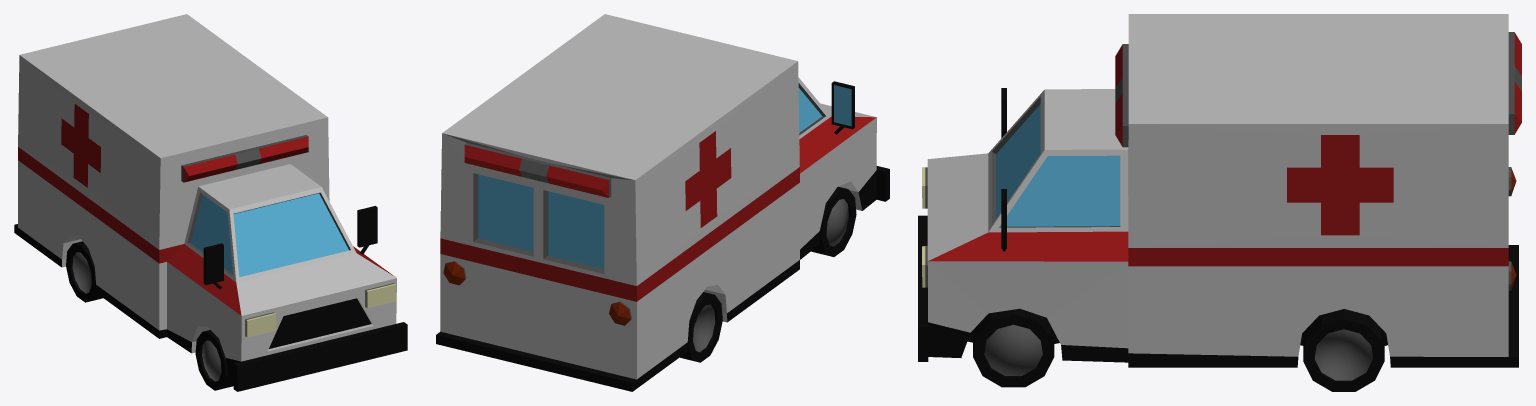
The model's file is SM_Ambulance.fbx.
The picture shows the model from 3 angles, left to right: view 1: azimuth 30°, elevation 25°; view 2: azimuth 150°, elevation 25°; view 3: azimuth 270°, elevation 25°; orthographic projection. The views are drawn at different scales.
Visible parts, largest first — view 1: pCube22, pCylinder13, pCylinder15; view 2: pCube22, pCylinder13, pCylinder15; view 3: pCube22, pCylinder14, pCylinder5.
Part boxes in pixels (x1,y1,x2,y2): pCube22: (14,14,407,391); pCylinder13: (195,330,233,390); pCylinder15: (66,241,103,302); pCube22: (436,14,889,391); pCylinder13: (811,186,856,256); pCylinder15: (680,292,722,362); pCube22: (918,14,1521,367); pCylinder14: (1303,309,1384,391); pCylinder5: (973,308,1054,387).
Size of the model in its own units: 2.6 by 2.89 by 5.87.
